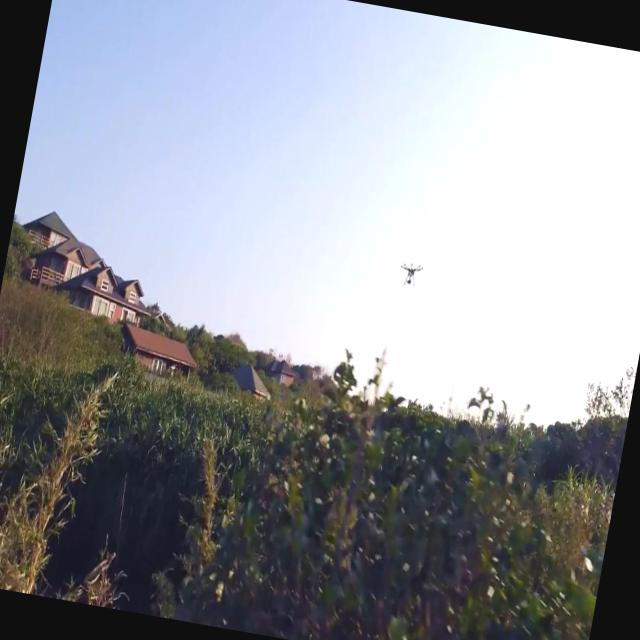drone: (396, 256, 426, 290)
